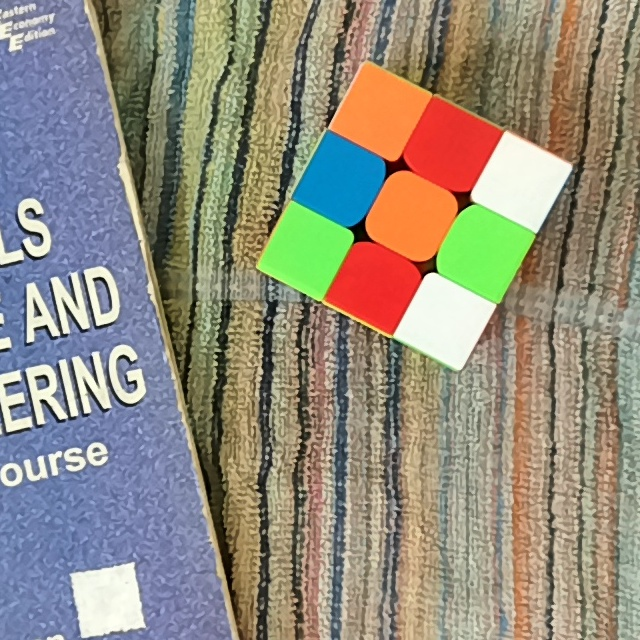tile: (423, 120, 479, 175), (346, 259, 402, 314), (354, 86, 408, 139), (456, 228, 511, 279), (418, 296, 474, 346), (495, 153, 548, 205), (387, 187, 442, 237), (316, 153, 366, 205), (279, 227, 331, 276)
